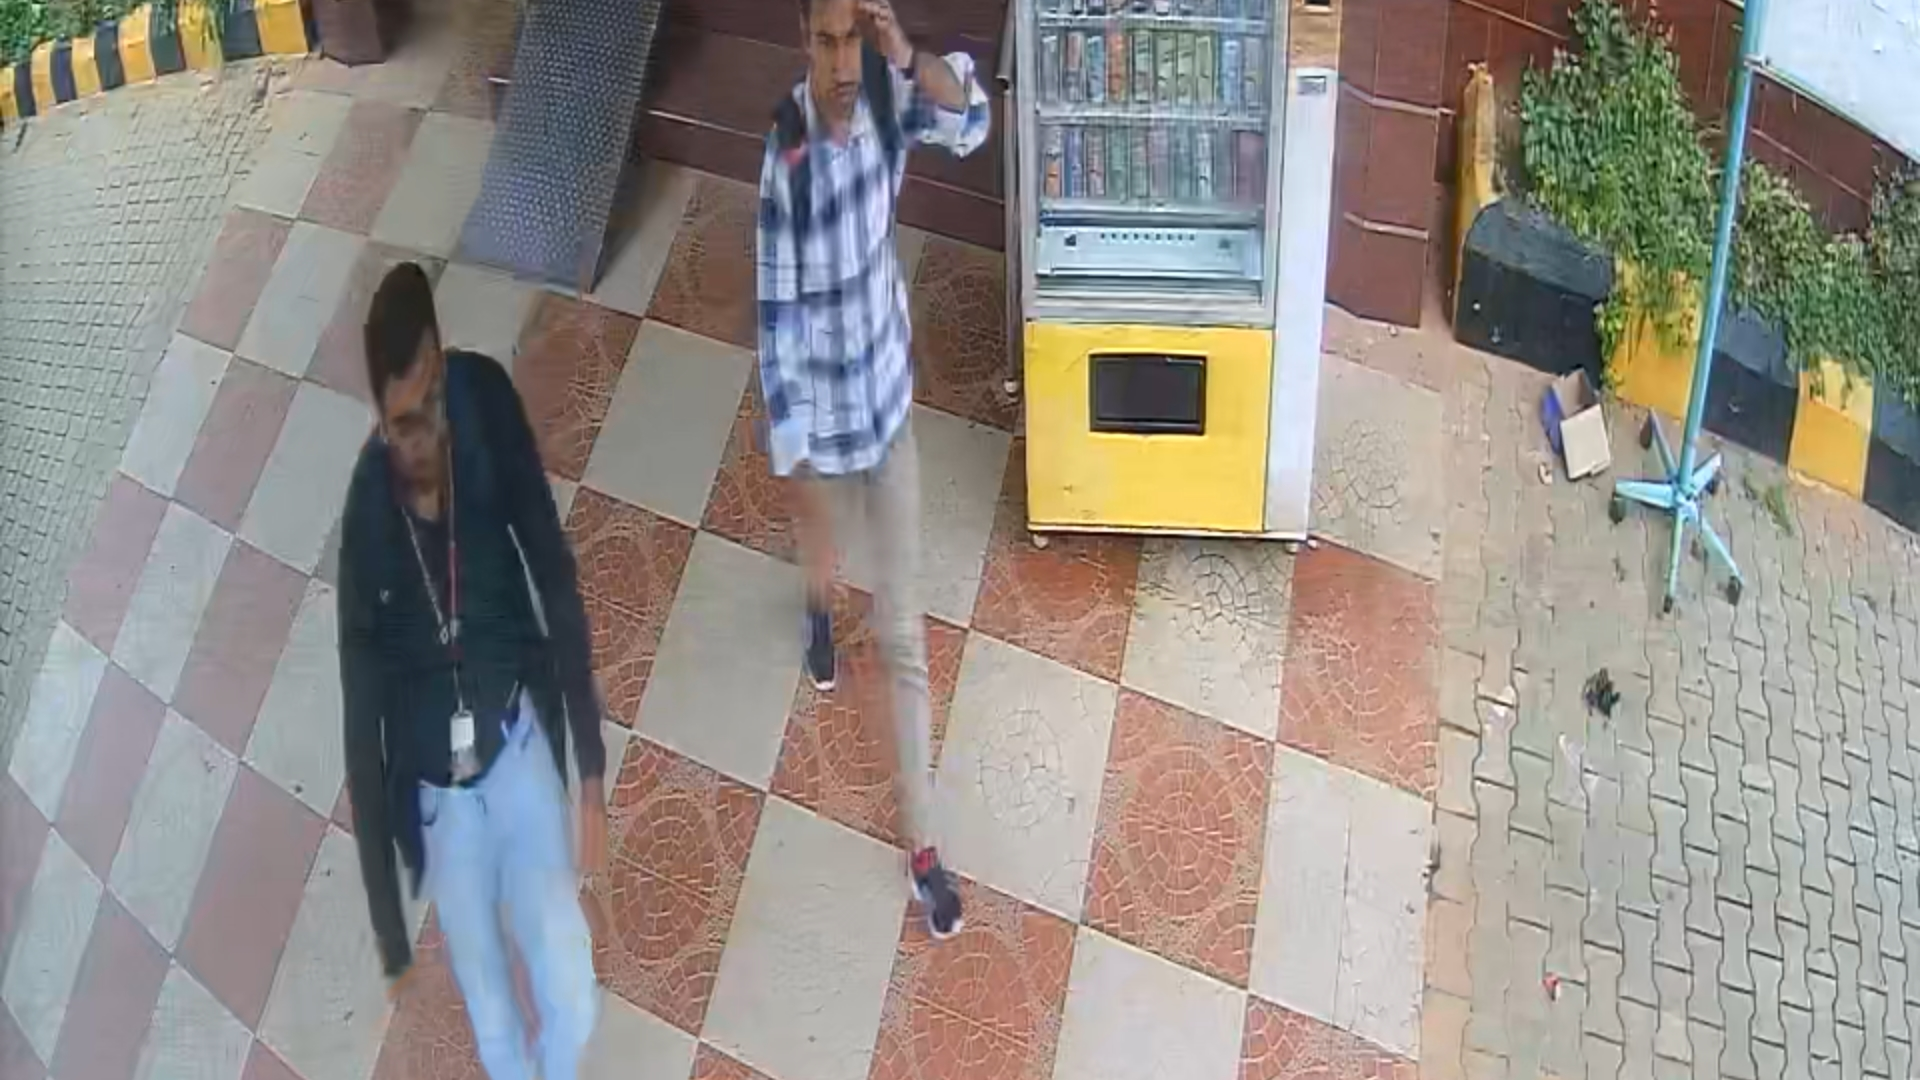intruder: (779, 1, 1009, 939)
not intruder: (322, 274, 680, 1080)
